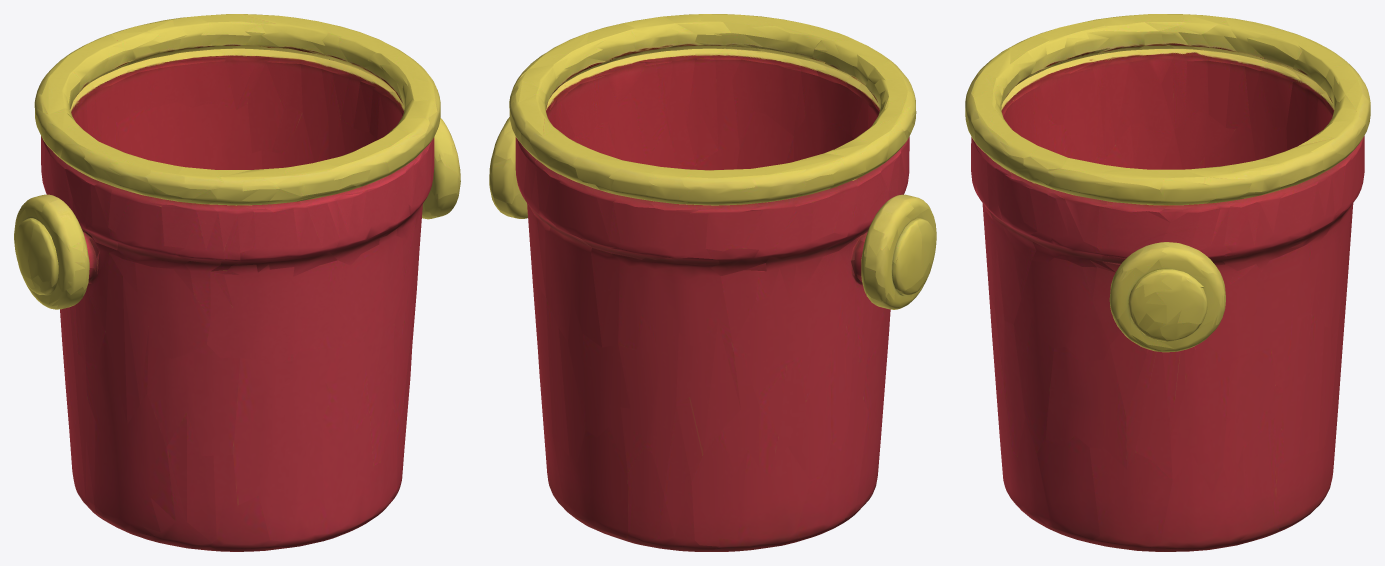
File: secchio_gigante.glb
The picture shows the model from 3 angles, left to right: view 1: azimuth 30°, elevation 25°; view 2: azimuth 150°, elevation 25°; view 3: azimuth 270°, elevation 25°; orthographic projection.
Parts seen in each view (by area): view 1: Mesh_0; view 2: Mesh_0; view 3: Mesh_0.
Boxes of the visible parts, box(x1,y1,x2,y2) form: Mesh_0: box(14, 14, 460, 551); Mesh_0: box(489, 14, 936, 551); Mesh_0: box(965, 14, 1370, 551).
Size of the model in its own units: 1.9 by 1.7 by 1.6.
1 material, 1 textured.
